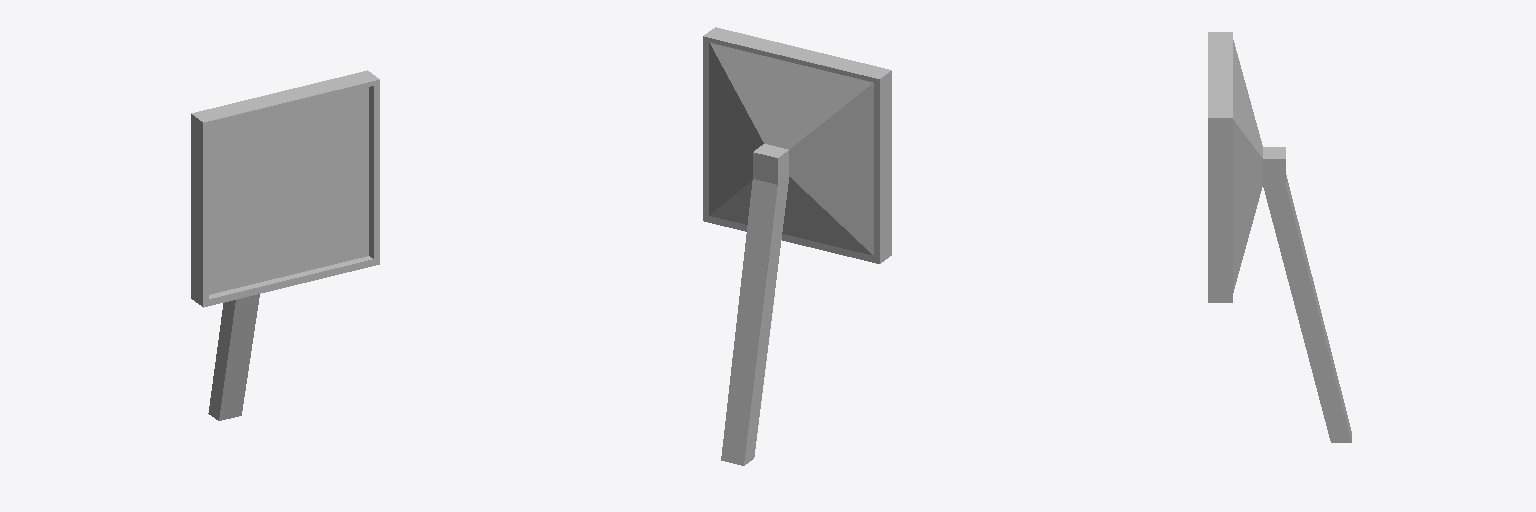
File: Painel.obj
3 views of the same model, side by side, from view 1: azimuth 30°, elevation 25°; view 2: azimuth 150°, elevation 25°; view 3: azimuth 270°, elevation 25° (orthographic).
Parts seen in each view (by area): view 1: Cube; view 2: Cube; view 3: Cube.
Part boxes in pixels (x1,y1,x2,y2): Cube: (191, 70, 379, 420); Cube: (703, 27, 891, 465); Cube: (1208, 32, 1351, 442).
Bounding box in the file's own units: 12.08 × 23.65 × 8.48.